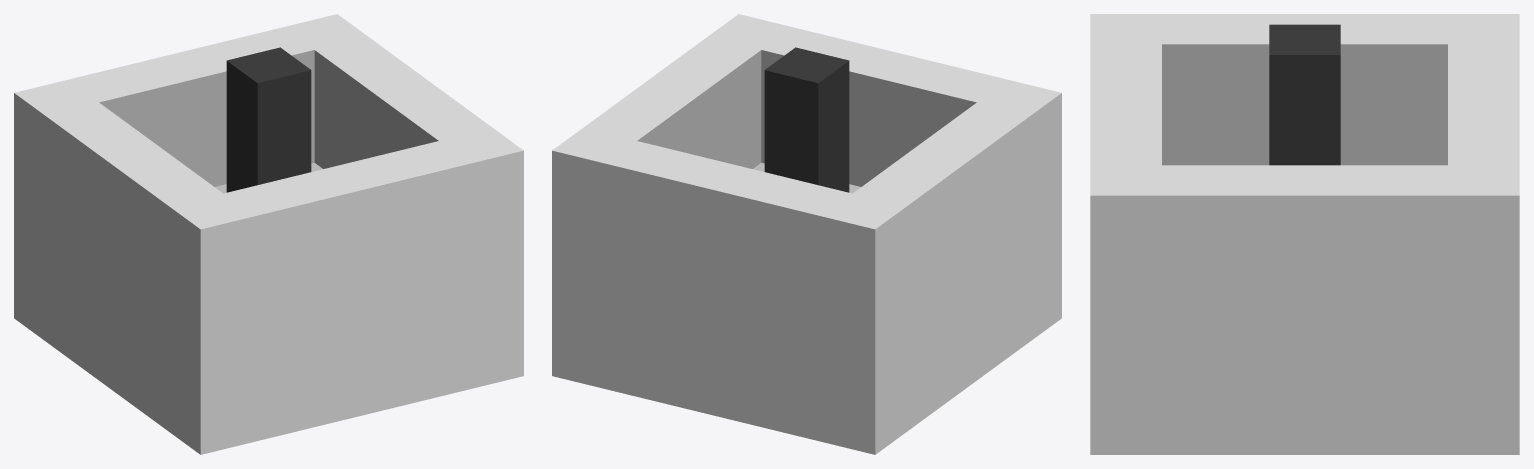
File: Candle.fbx
The picture shows the model from 3 angles, left to right: view 1: azimuth 30°, elevation 25°; view 2: azimuth 150°, elevation 25°; view 3: azimuth 270°, elevation 25°; orthographic projection. The views are drawn at different scales.
Visible parts, largest first — view 1: cube, cube_1, cube_2, cube_4, cube_3, cube_5; view 2: cube, cube_2, cube_1, cube_4, cube_3, cube_5; view 3: cube, cube_3, cube_4, cube_1, cube_2, cube_5.
Boxes of the visible parts, <box> form: cube: <box>14,162,523,454</box>; cube_1: <box>169,128,523,341</box>; cube_2: <box>14,14,367,227</box>; cube_4: <box>45,102,222,318</box>; cube_3: <box>314,36,492,168</box>; cube_5: <box>226,47,311,192</box>; cube: <box>552,162,1061,454</box>; cube_2: <box>552,128,906,341</box>; cube_1: <box>708,14,1061,227</box>; cube_4: <box>853,102,1030,318</box>; cube_3: <box>583,36,761,168</box>; cube_5: <box>764,47,849,192</box>; cube: <box>1090,325,1519,454</box>; cube_3: <box>1162,165,1447,325</box>; cube_4: <box>1162,14,1447,165</box>; cube_1: <box>1090,14,1161,325</box>; cube_2: <box>1448,14,1519,325</box>; cube_5: <box>1269,24,1340,165</box>.
Bounding box in the file's own units: 37.5 × 31.25 × 37.5.
1 material, 1 textured.
